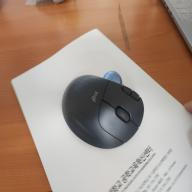mouse: (60, 69, 145, 151)
